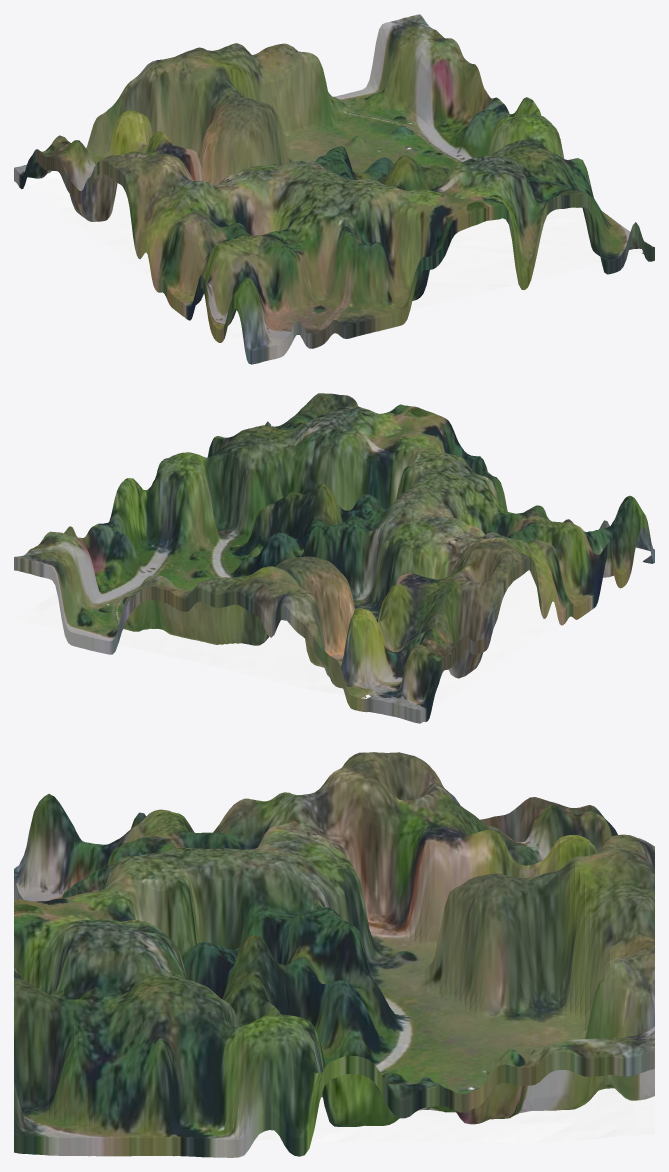
3 views of the same model, one above another, from view 1: azimuth 30°, elevation 25°; view 2: azimuth 150°, elevation 25°; view 3: azimuth 270°, elevation 25° (orthographic). The views are drawn at different scales.
Visible parts, largest first — view 1: surface, ground; view 2: surface, ground; view 3: surface, ground.
Part boxes in pixels (x1,y1,x2,y2): surface: (14,14,654,364); ground: (26,171,642,349); surface: (14,393,654,723); ground: (14,547,651,707); surface: (14,752,654,1157); ground: (255,1088,654,1143).
Size of the model in its own units: 128 by 32.53 by 128.
2 materials, 1 textured.
